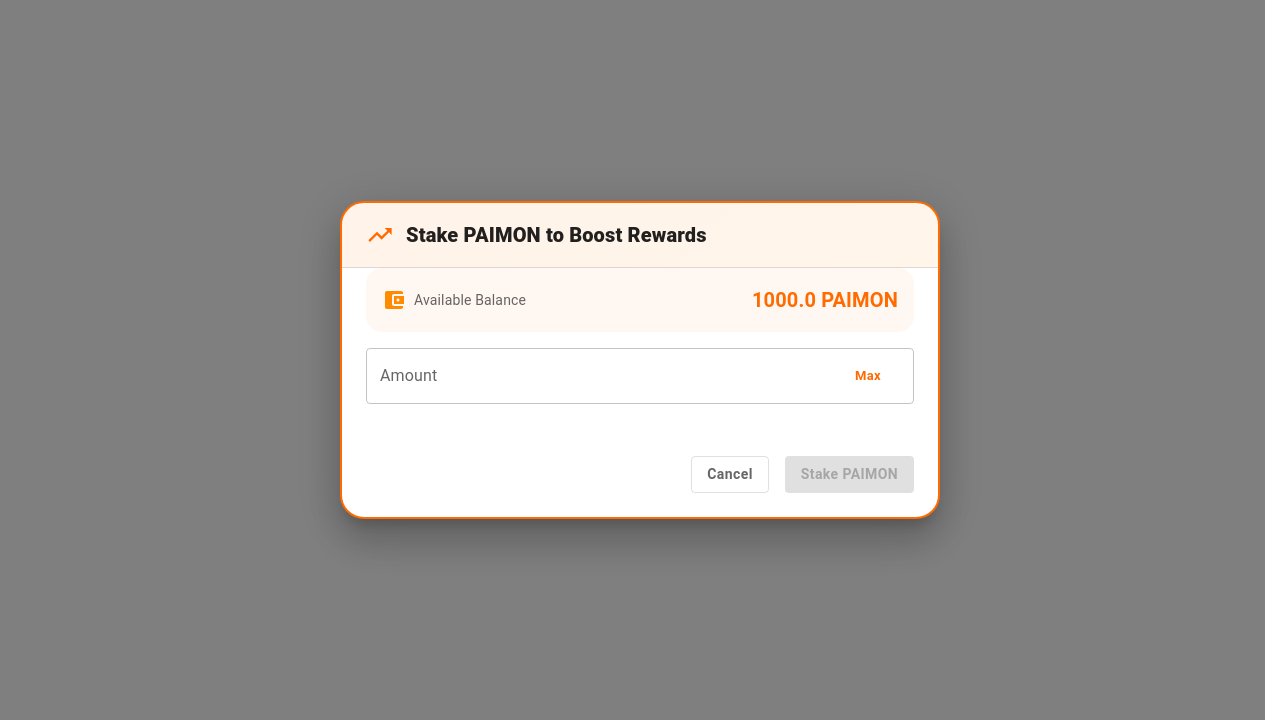
BoostStakeModal Component › Functional: Modal Interactions › shows estimated boost multiplier when amount entered
In the field labelled "Amount": [597, 376] box [366,348,828,404], type "1000"
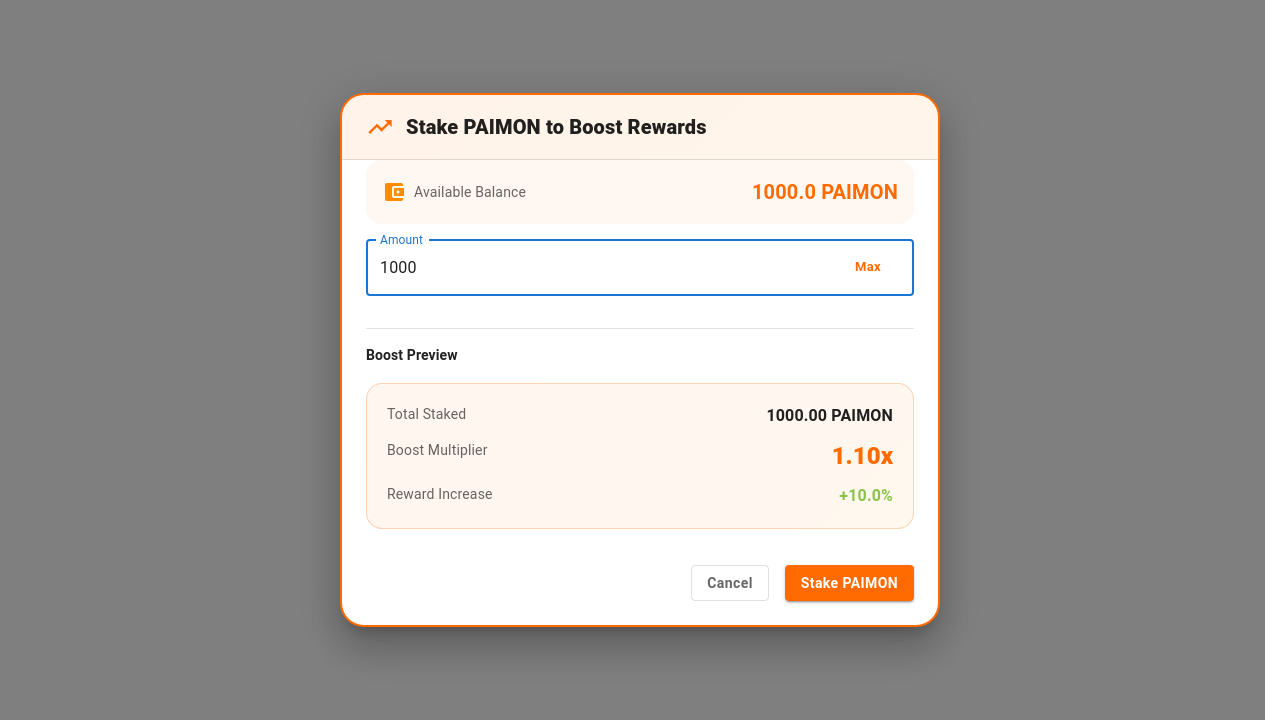
expect the heading "1.10x" is shown: met, box [832,440,893,472]
